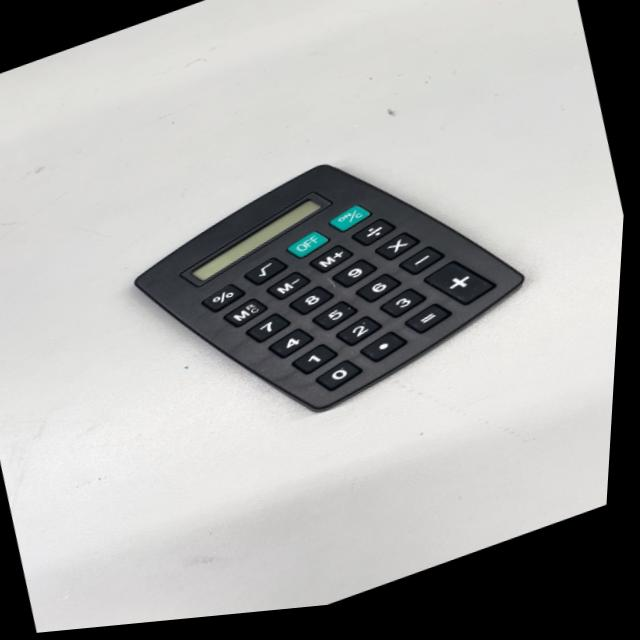calculator: (110, 97, 557, 473)
